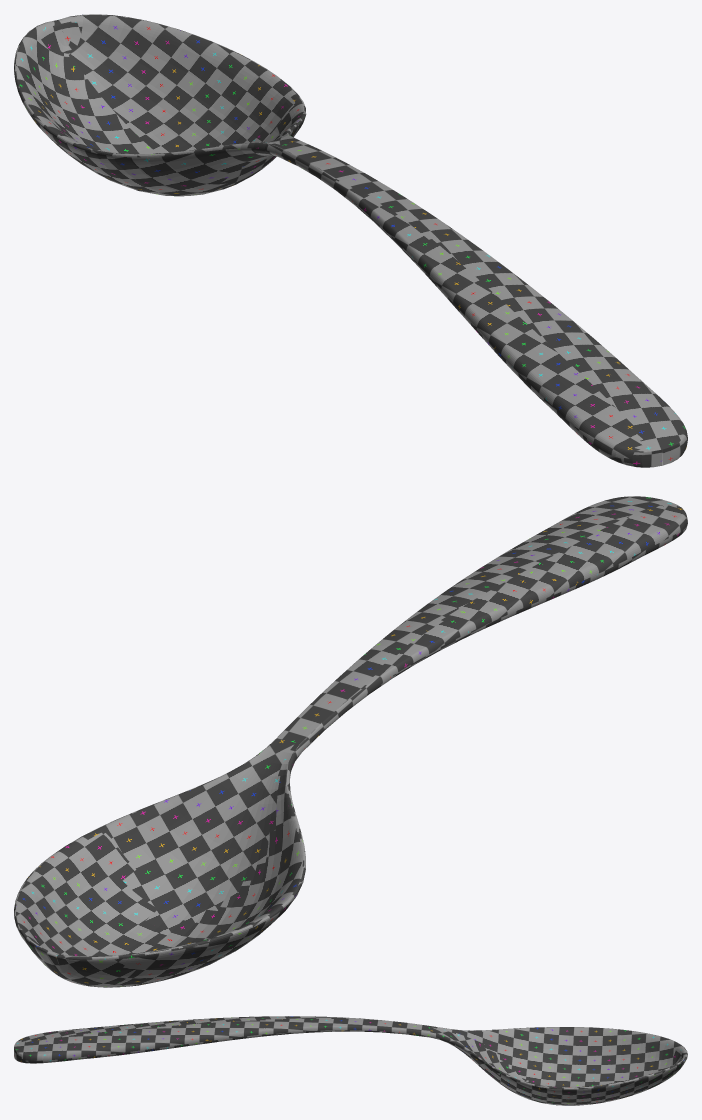
File: spoon_uv.gltf
3 views of the same model, one above another, from view 1: azimuth 30°, elevation 25°; view 2: azimuth 150°, elevation 25°; view 3: azimuth 270°, elevation 25° (orthographic). The views are drawn at different scales.
Visible parts, largest first — view 1: Spoon; view 2: Spoon; view 3: Spoon.
Part boxes in pixels (x1=…): Spoon: x1=14, y1=14, x2=687, y2=467; Spoon: x1=14, y1=496, x2=687, y2=987; Spoon: x1=14, y1=1016, x2=687, y2=1105.
Bounding box in the file's own units: 0.264 × 0.155 × 1.21.
Materials: 1 (1 with a texture image).
